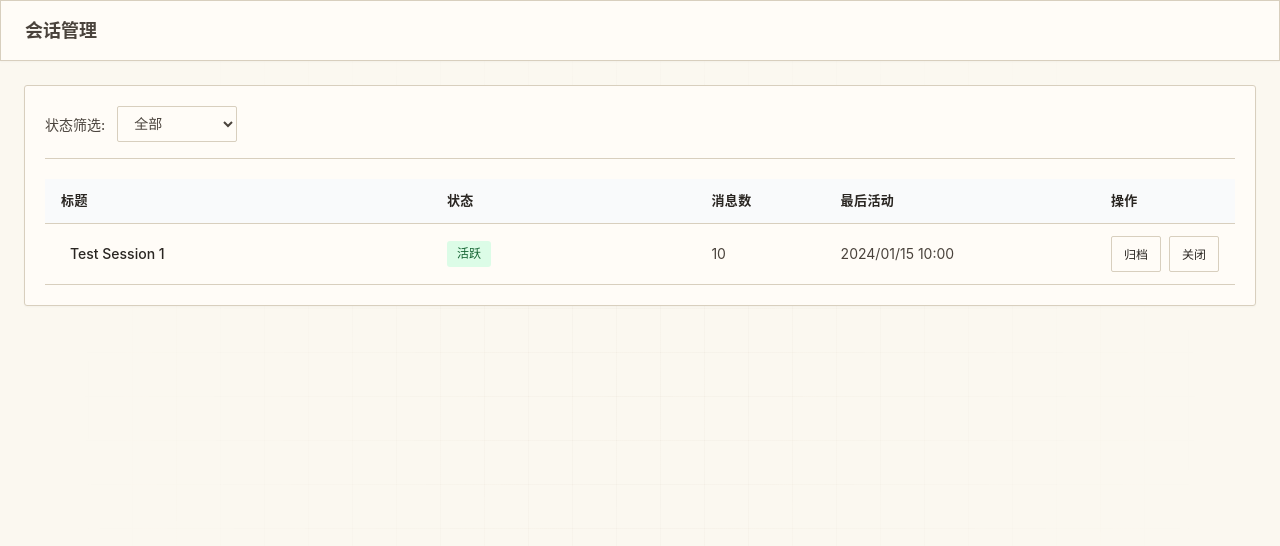
Test: SessionsTab › allows inline editing of title on click
Expected: the row with test id "session-row-session-1" is shown, x1=45 y1=223 x2=1235 y2=284
Step 1. Click the text with class "session-title" → (117, 254), box x1=70 y1=245 x2=165 y2=262
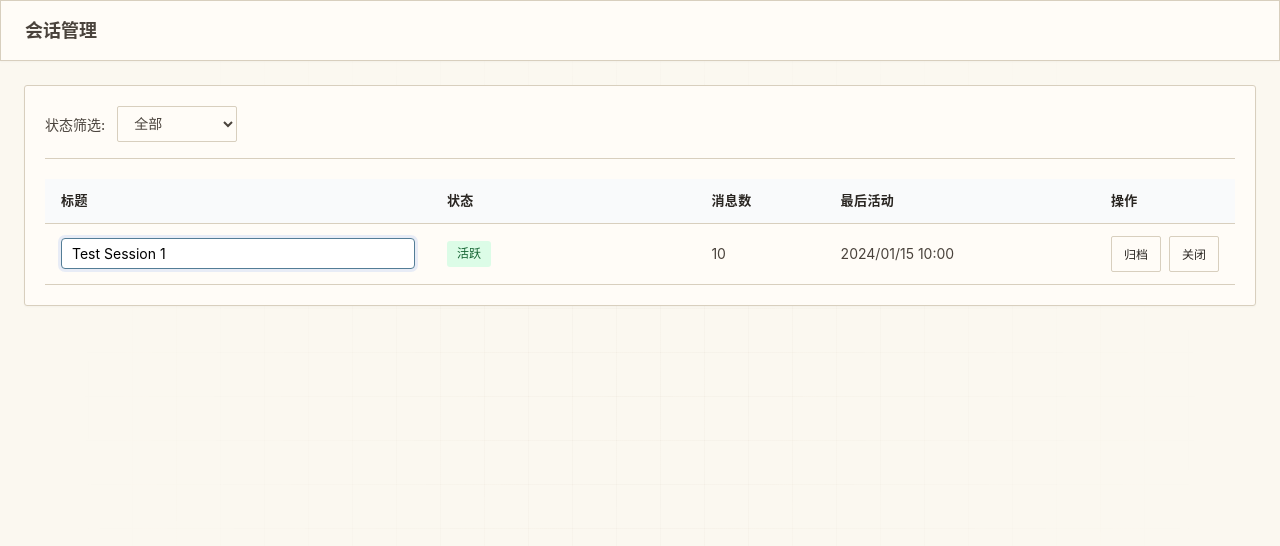
Expected: the field with class "title-input" is shown, x1=61 y1=238 x2=415 y2=269
